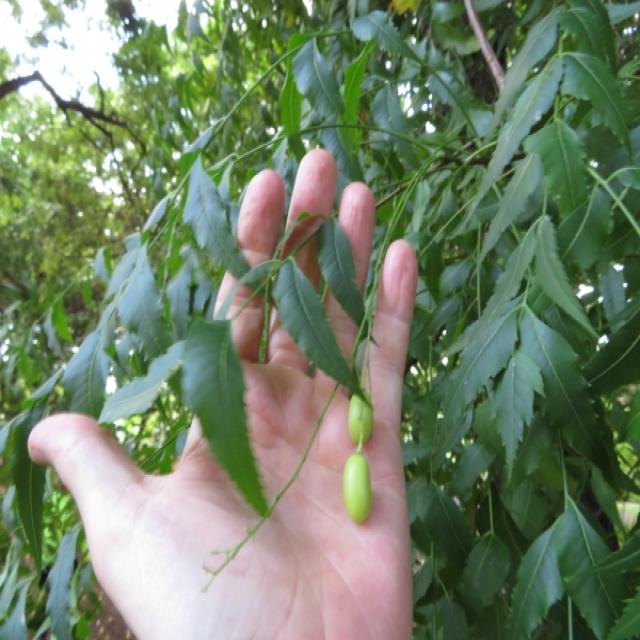Medicinal-Neem: (35, 141, 428, 521), (419, 14, 640, 640)
